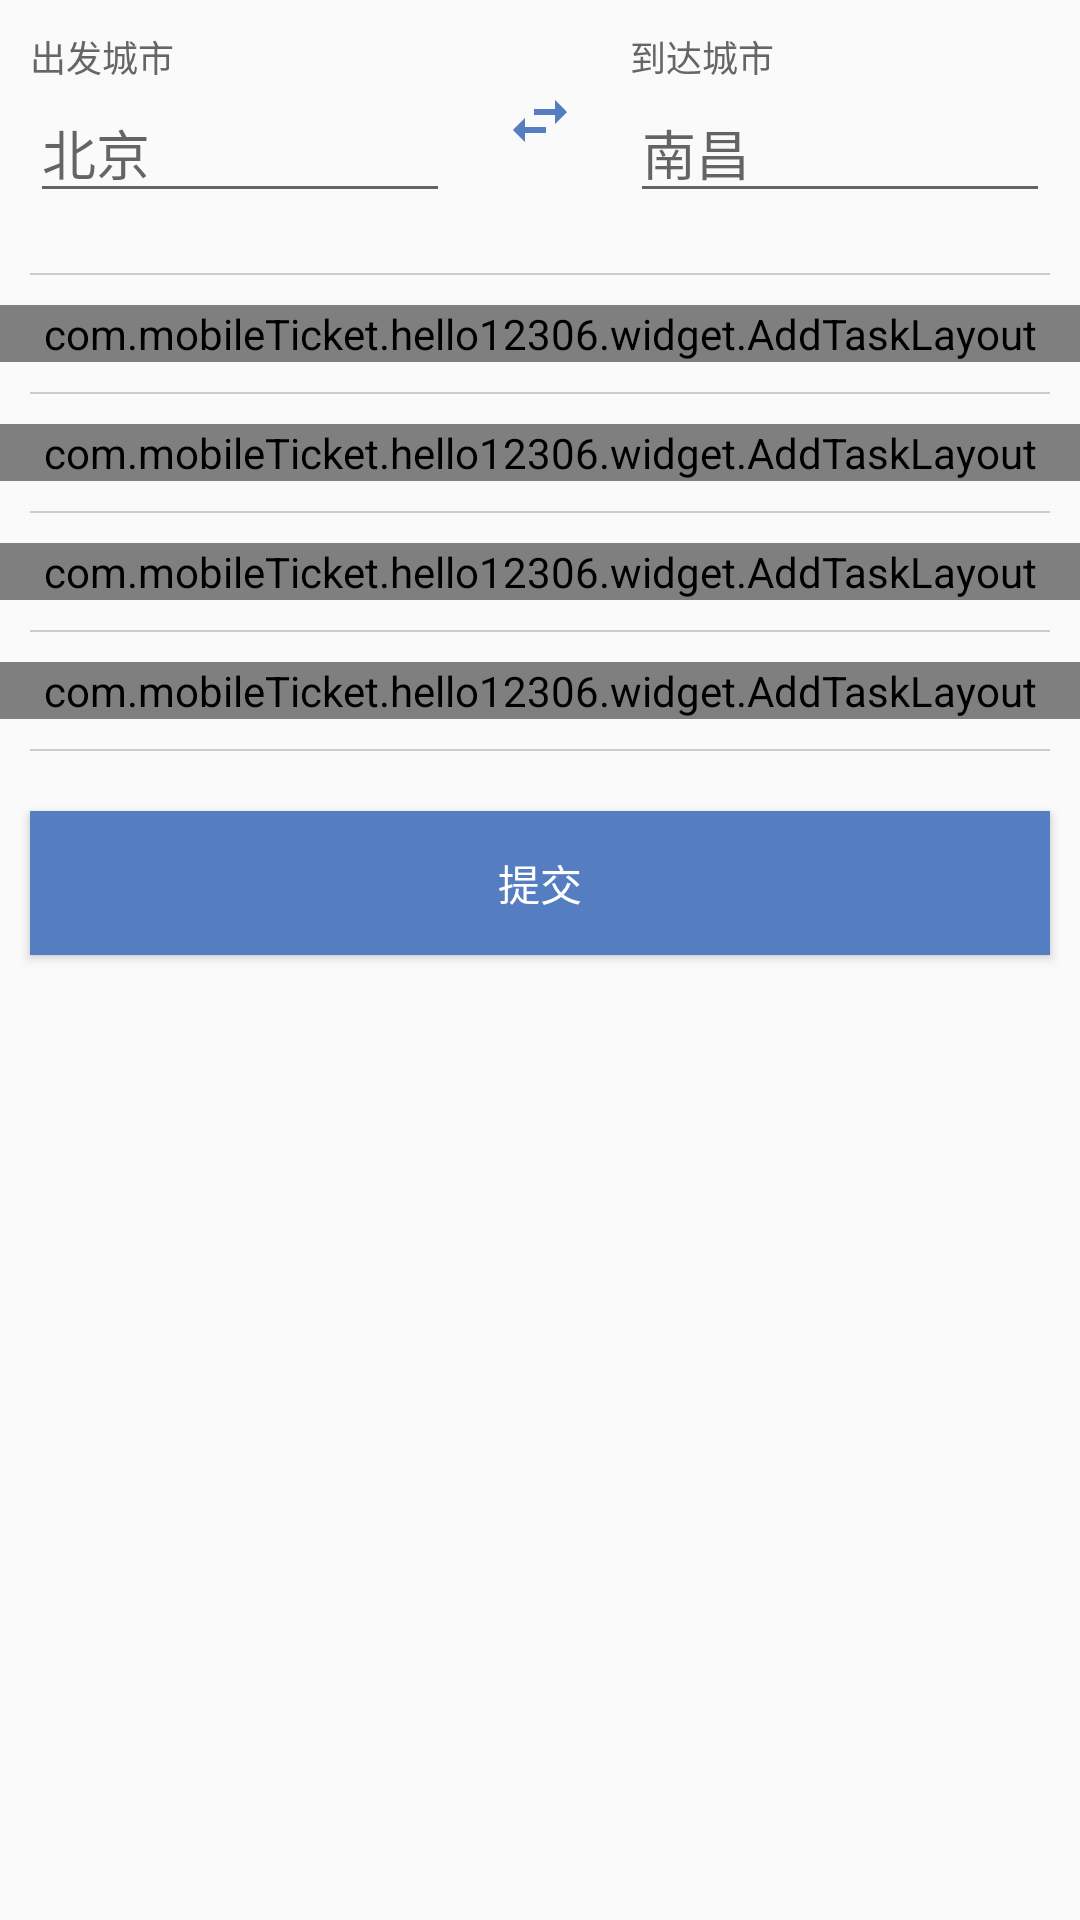

Icons on this 1080px×1920px Android screen, each with the point to tap as point (x, y):
swap horiz: point (540, 121)
